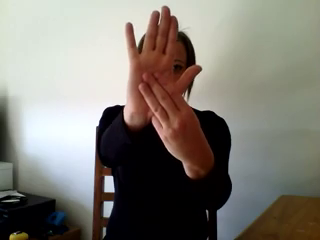M: (113, 4, 207, 171)
